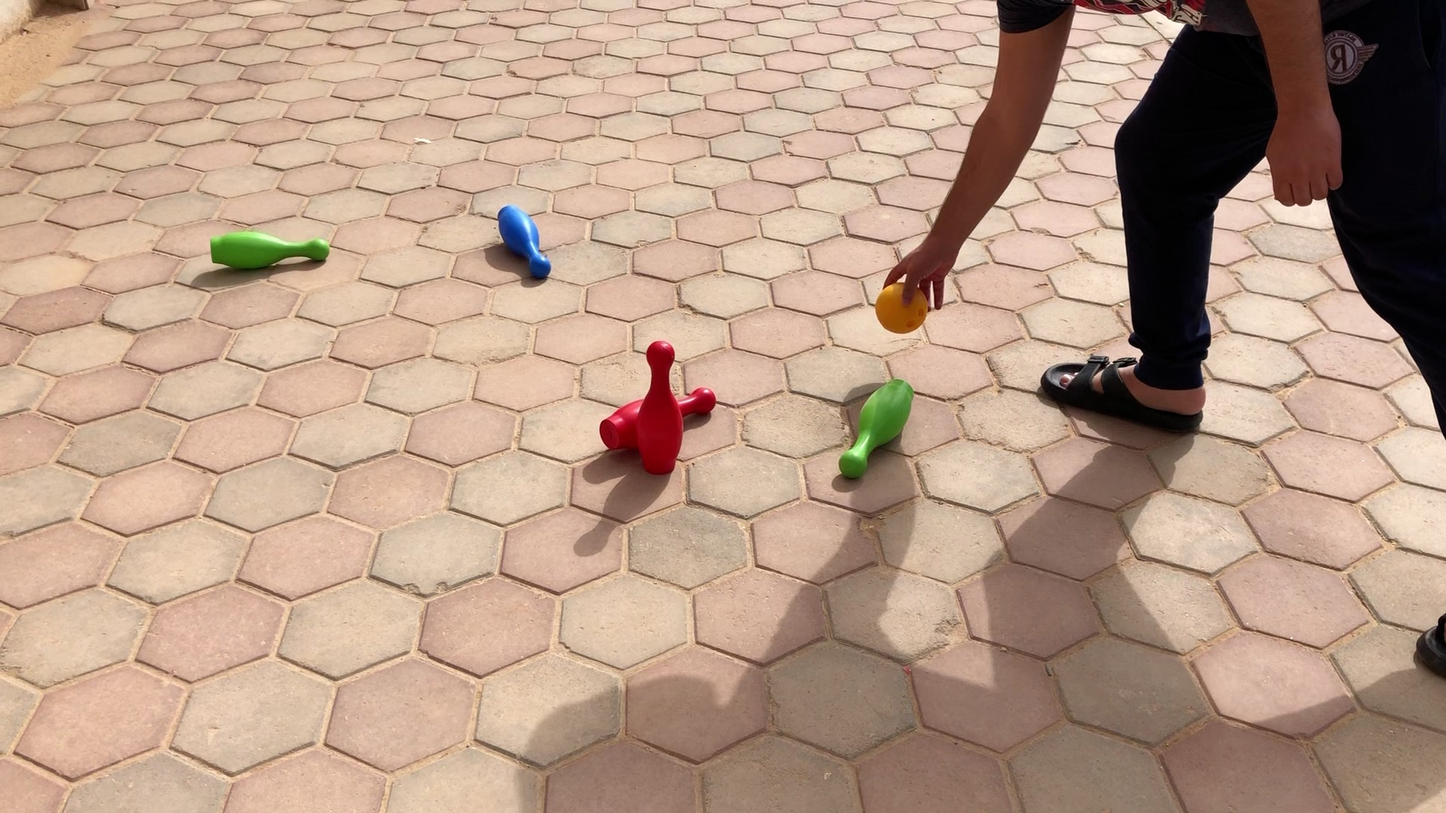pin: (611, 342, 685, 473), (840, 382, 909, 479), (209, 231, 327, 271), (498, 206, 552, 278)
